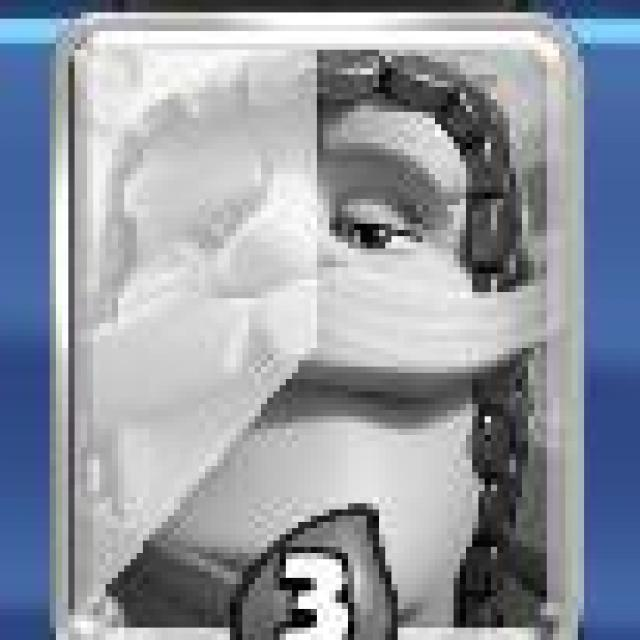Knight: (52, 12, 582, 640)
